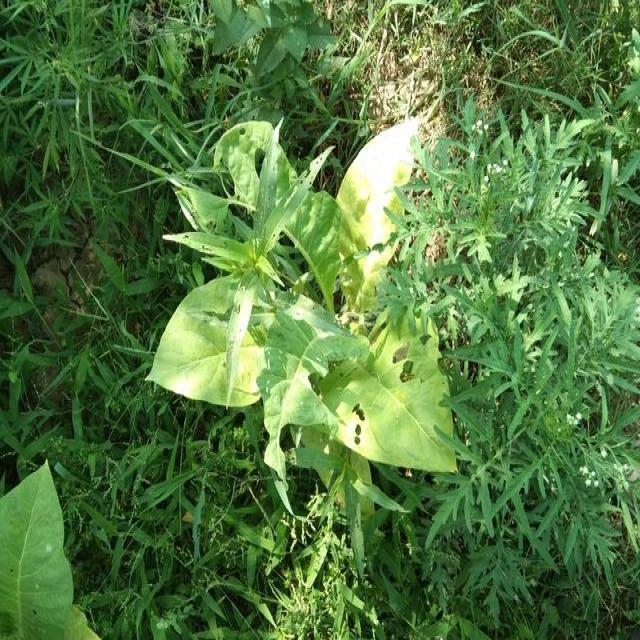crop: (149, 113, 455, 473)
